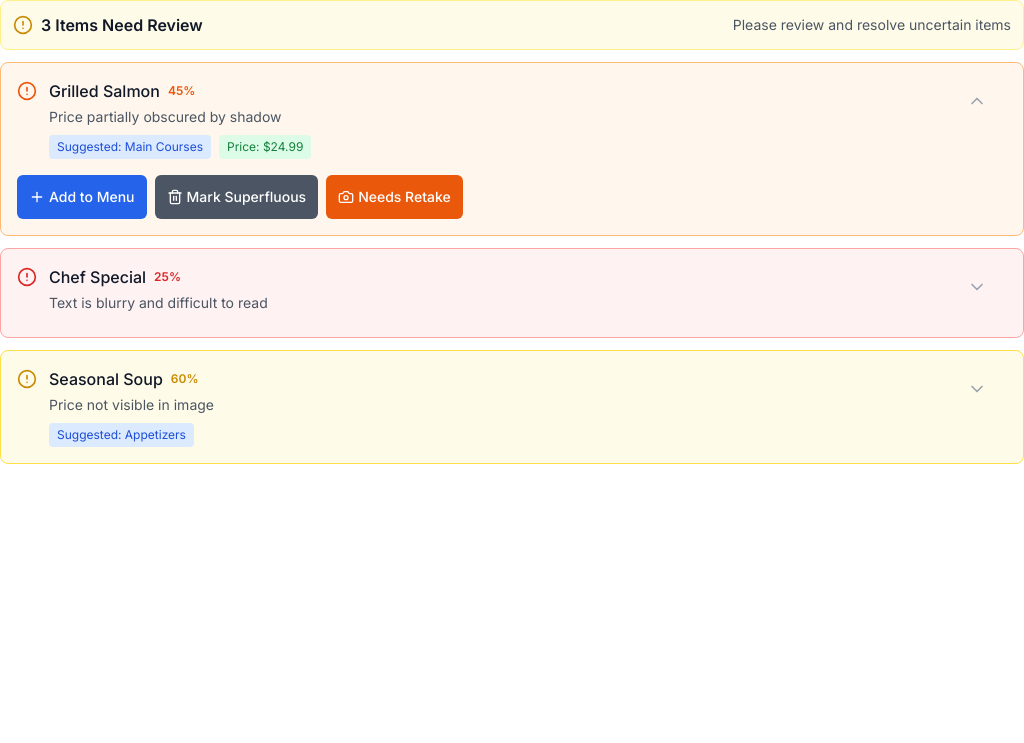
UncertainItemsPanel › Add to Menu › should show edit form when "Add to Menu" is clicked
Click the button "Add to Menu" at {"x": 82, "y": 197}, box [17,175,146,219]
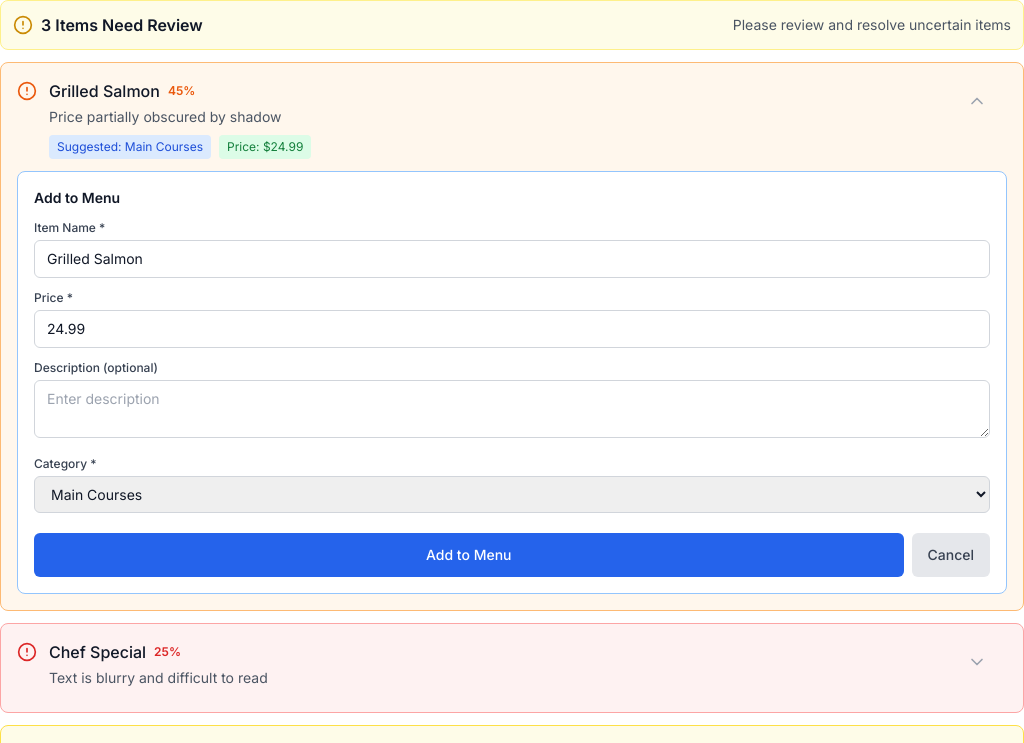
Result: the field labelled "Item Name *" is shown at [34,240,990,278]
Result: the number field labelled "Price *" is shown at [34,310,990,348]
Result: the dropdown labelled "Category *" is shown at [34,476,990,513]
